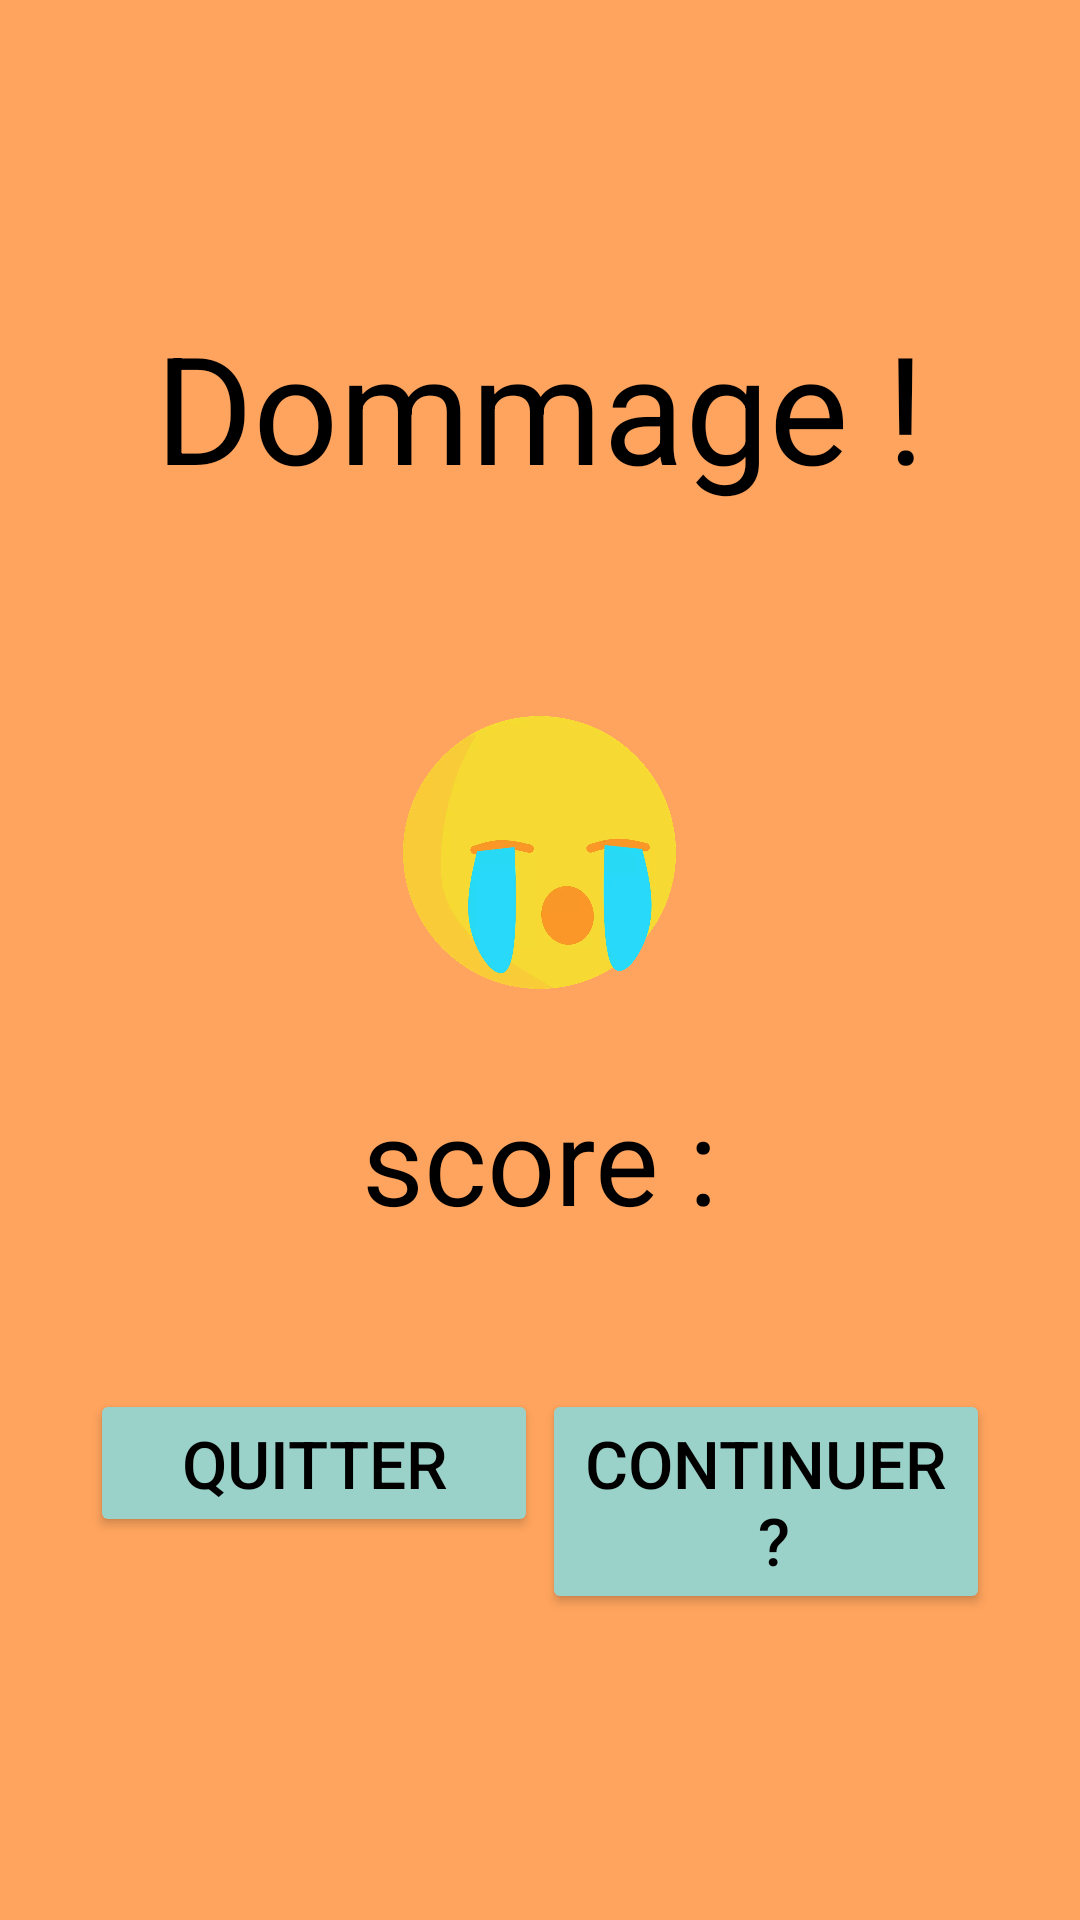

Screen size 1080x1920. Icon name, then its box in pixels as (x1, y1, x2, y2):
sad emoji: (403, 716, 676, 989)
